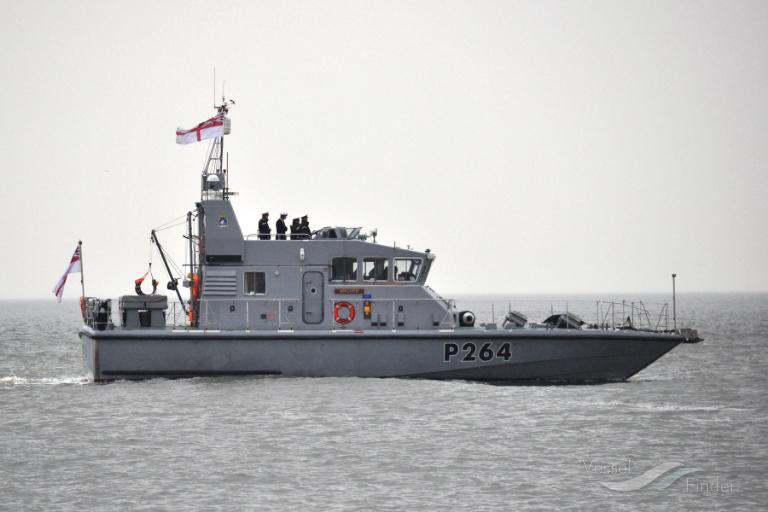OCR: (432, 338, 520, 367)
